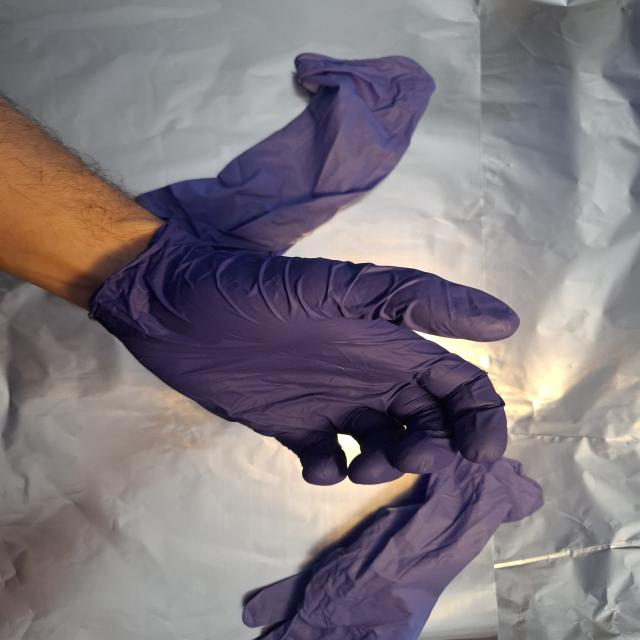glove_on: (87, 223, 527, 490)
